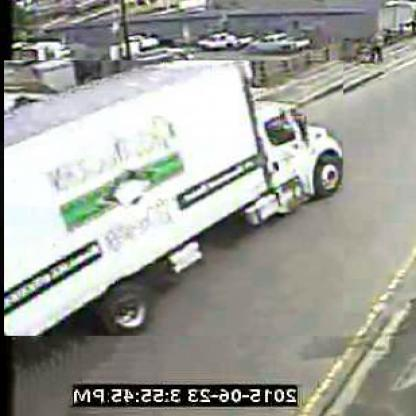truck: (4, 61, 344, 338)
